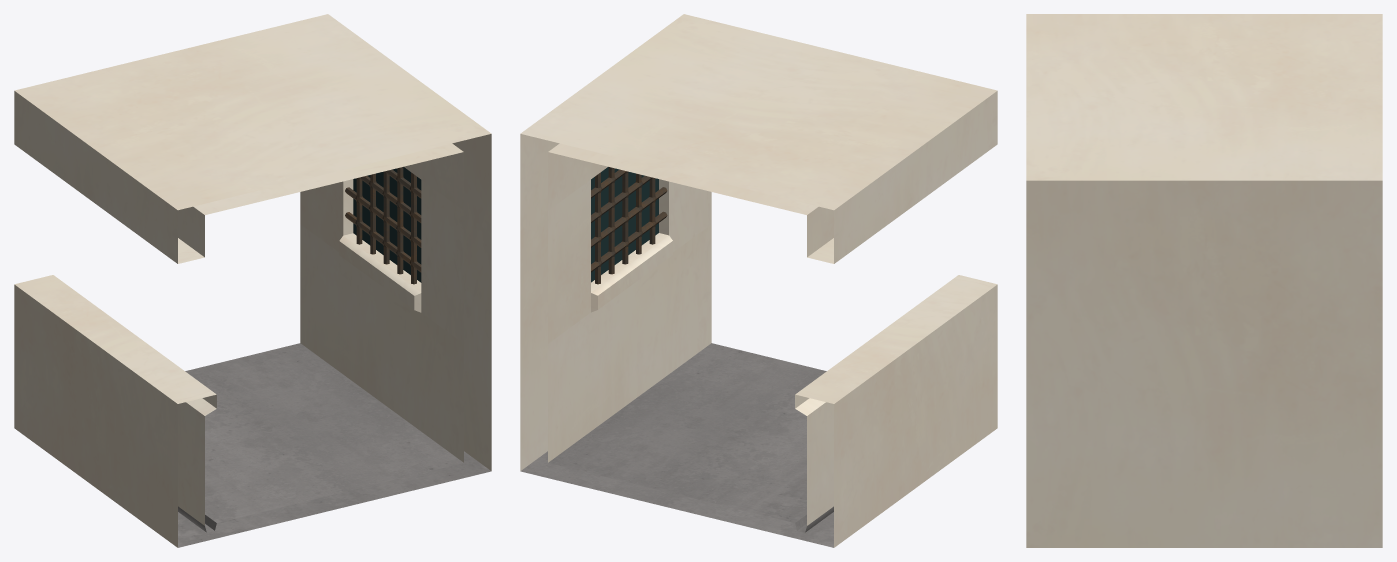
The model's file is BarWindowPc.fbx.
3 views of the same model, side by side, from view 1: azimuth 30°, elevation 25°; view 2: azimuth 150°, elevation 25°; view 3: azimuth 270°, elevation 25° (orthographic). The views are drawn at different scales.
Parts seen in each view (by area): view 1: window_new; view 2: window_new; view 3: window_new.
Boxes of the visible parts, <box> form: window_new: <box>14,14,491,547</box>; window_new: <box>520,14,997,547</box>; window_new: <box>1026,14,1382,547</box>.
Bounding box in the file's own units: 2.89 × 2.97 × 2.61.
